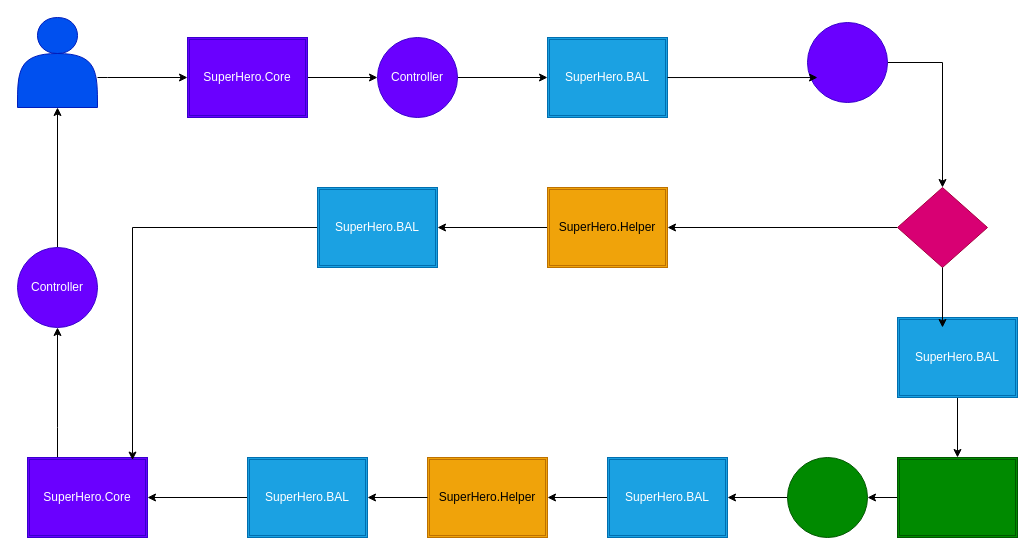
This 1035x555 diagram has some shape labels left out. The shapes that lost their labels are listed below. From the top down, each one's centre as x and y in pixels, then its label:
the point at 57,62: User
the point at 847,62: DTOS
the point at 942,227: IsVaild
the point at 827,497: Generic Repo
the point at 957,497: SuperHero.DAL
